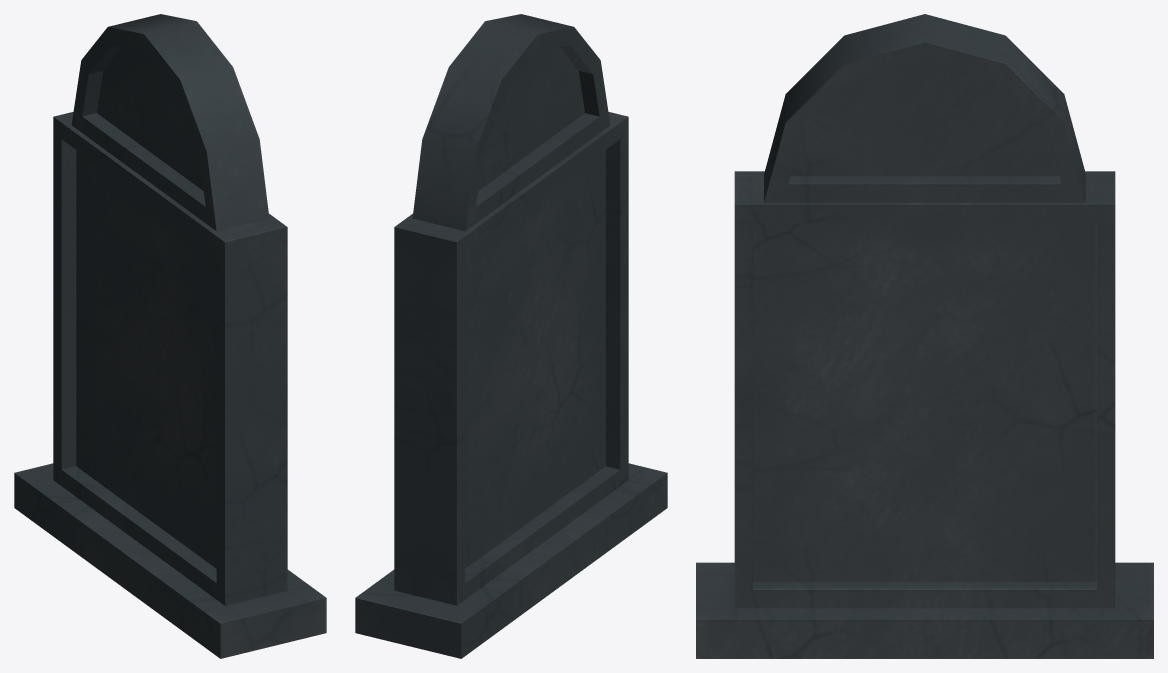
The model's file is Gravestone9_Model.fbx.
The picture shows the model from 3 angles, left to right: view 1: azimuth 30°, elevation 25°; view 2: azimuth 150°, elevation 25°; view 3: azimuth 270°, elevation 25°; orthographic projection. The views are drawn at different scales.
Visible parts, largest first — view 1: Gravestone9; view 2: Gravestone9; view 3: Gravestone9.
Boxes of the visible parts, x1,y1,x2,y2 form: Gravestone9: (14,14,326,658); Gravestone9: (355,14,667,658); Gravestone9: (696,14,1153,658).
Size of the model in its own units: 11.12 by 54.29 by 37.41.
